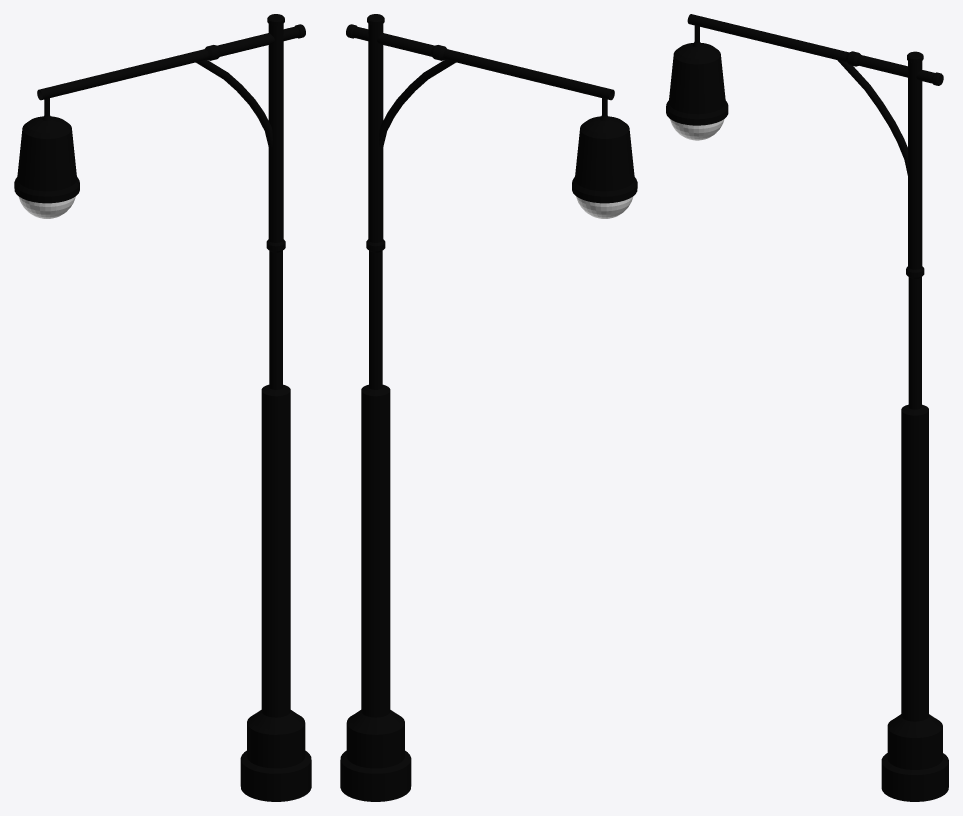
File: Столб Светофор.fbx
3 renders of one model, left to right at view 1: azimuth 30°, elevation 25°; view 2: azimuth 150°, elevation 25°; view 3: azimuth 330°, elevation 25°, orthographic. The views are drawn at different scales.
Parts seen in each view (by area): view 1: Cylinder; view 2: Cylinder; view 3: Cylinder.
Boxes of the visible parts, box(x1,y1,x2,y2) form: Cylinder: box(14, 14, 311, 801); Cylinder: box(340, 14, 637, 801); Cylinder: box(666, 14, 948, 801).
Bounding box in the file's own units: 96.96 × 248 × 20.66.
